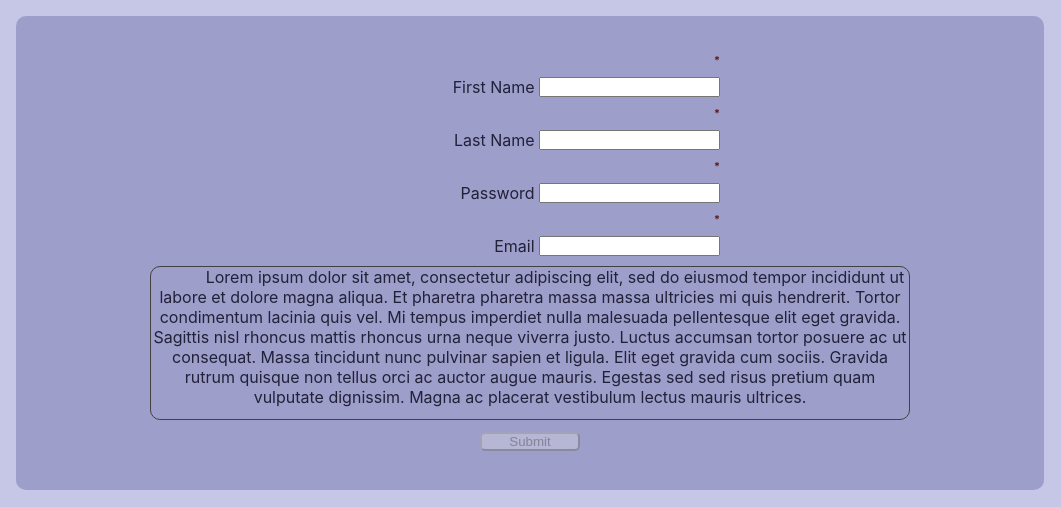
Test case: jzform › Filling out Form and Submit › ERROR check: last name must be less than 3 characters
Type "ba" into the field named "last_name".
click(630, 141); type("ba")  # box left=539, top=131, right=720, bottom=151
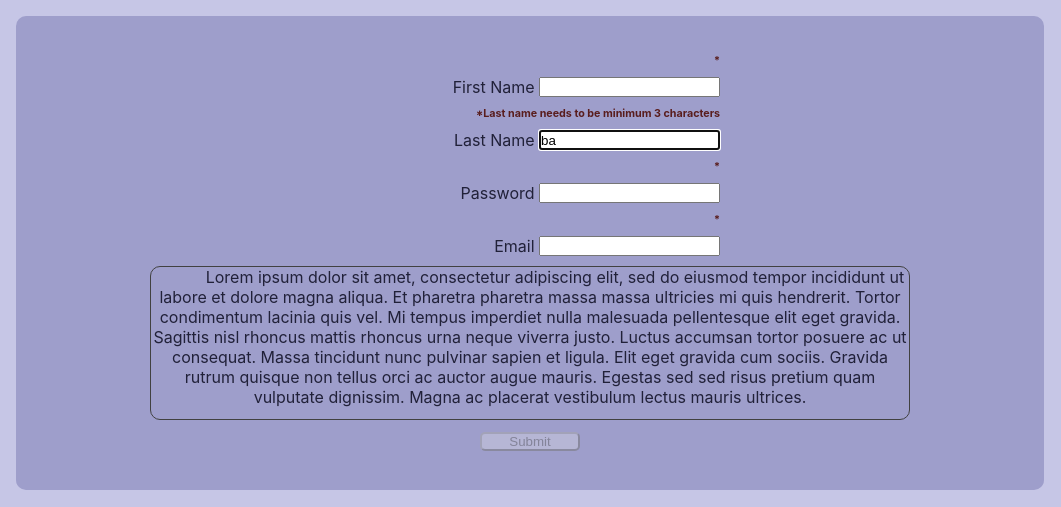
Result: the heading "*Last name needs to be minimum 3 characters" is shown at left=476, top=108, right=720, bottom=120
